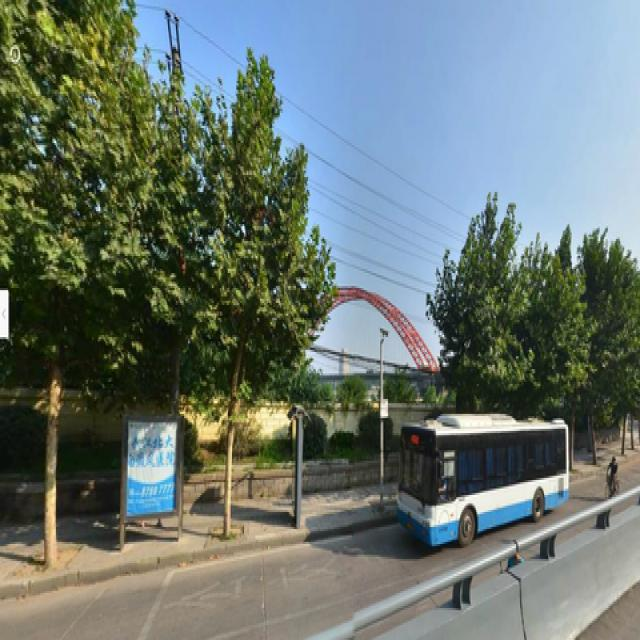meta: (3, 9, 145, 568), (182, 94, 302, 525)
